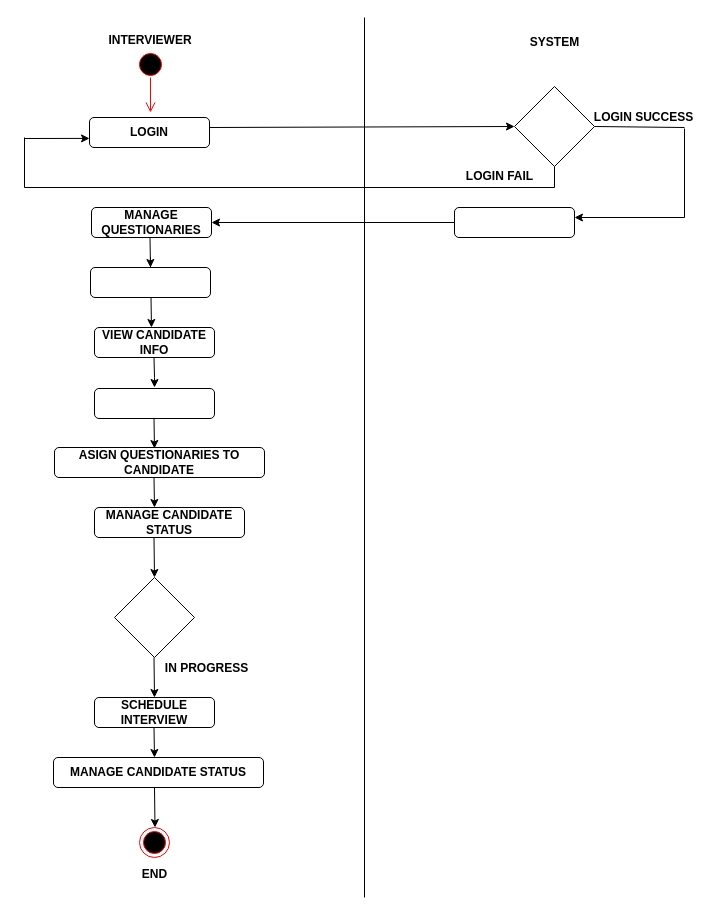
Some shapes in this 716 by 916 pixel diagram are drawn without their labels. Here are the shapes that lost their labels. From the top down, the centre of each, then its label:
At (514,222): "HOME PAGE".
At (150,282): "CHECK SCHEDULE".
At (154,403): "SCHEDULE TEST TO CANDIDATE".
